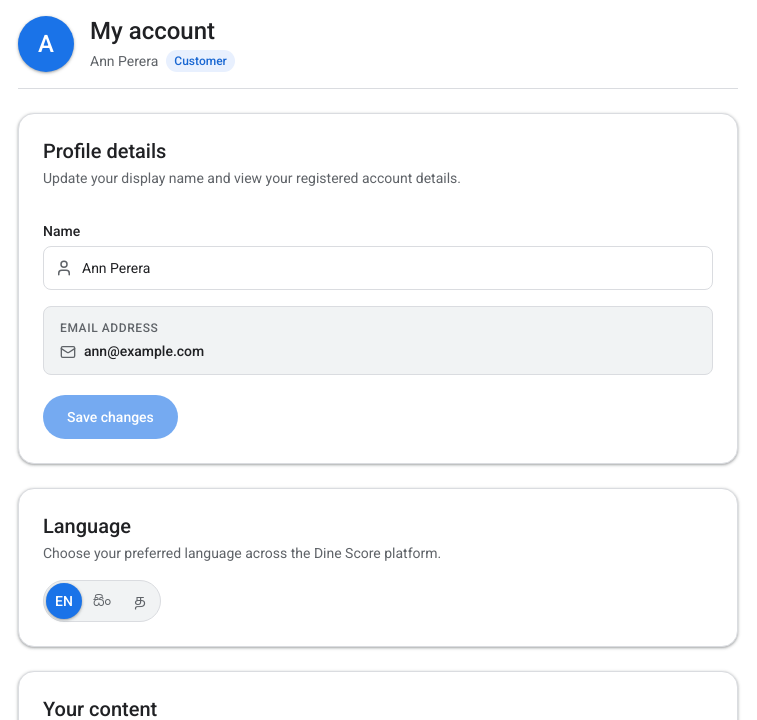
Test: AccountComponent › Save › is disabled until the name has been changed
Expected: the submit button is disabled, [43,395,178,439]
Step 1. Replace the text in the field with id "name" with "Ann Silva" → (378, 268), box [43,246,713,290]
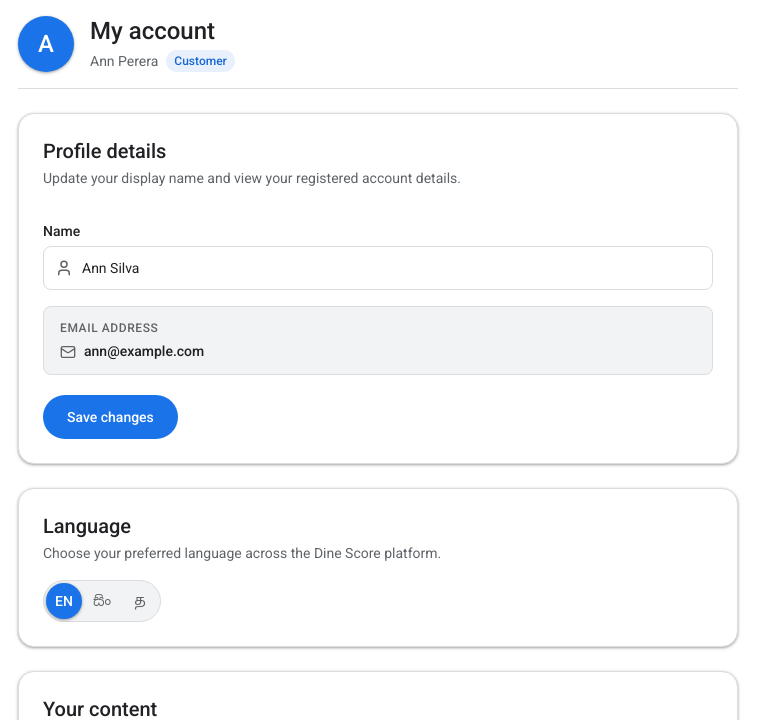
Expected: the submit button is enabled, [43,395,178,439]
Step 2. Replace the text in the field with id "name" with "Ann Perera" → (378, 268), box [43,246,713,290]
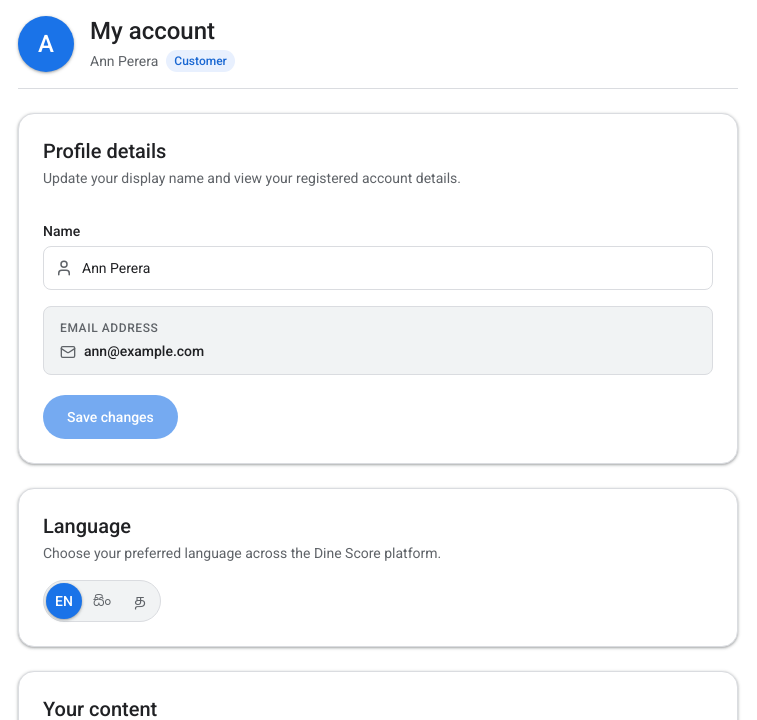
Expected: the submit button is disabled, [43,395,178,439]
